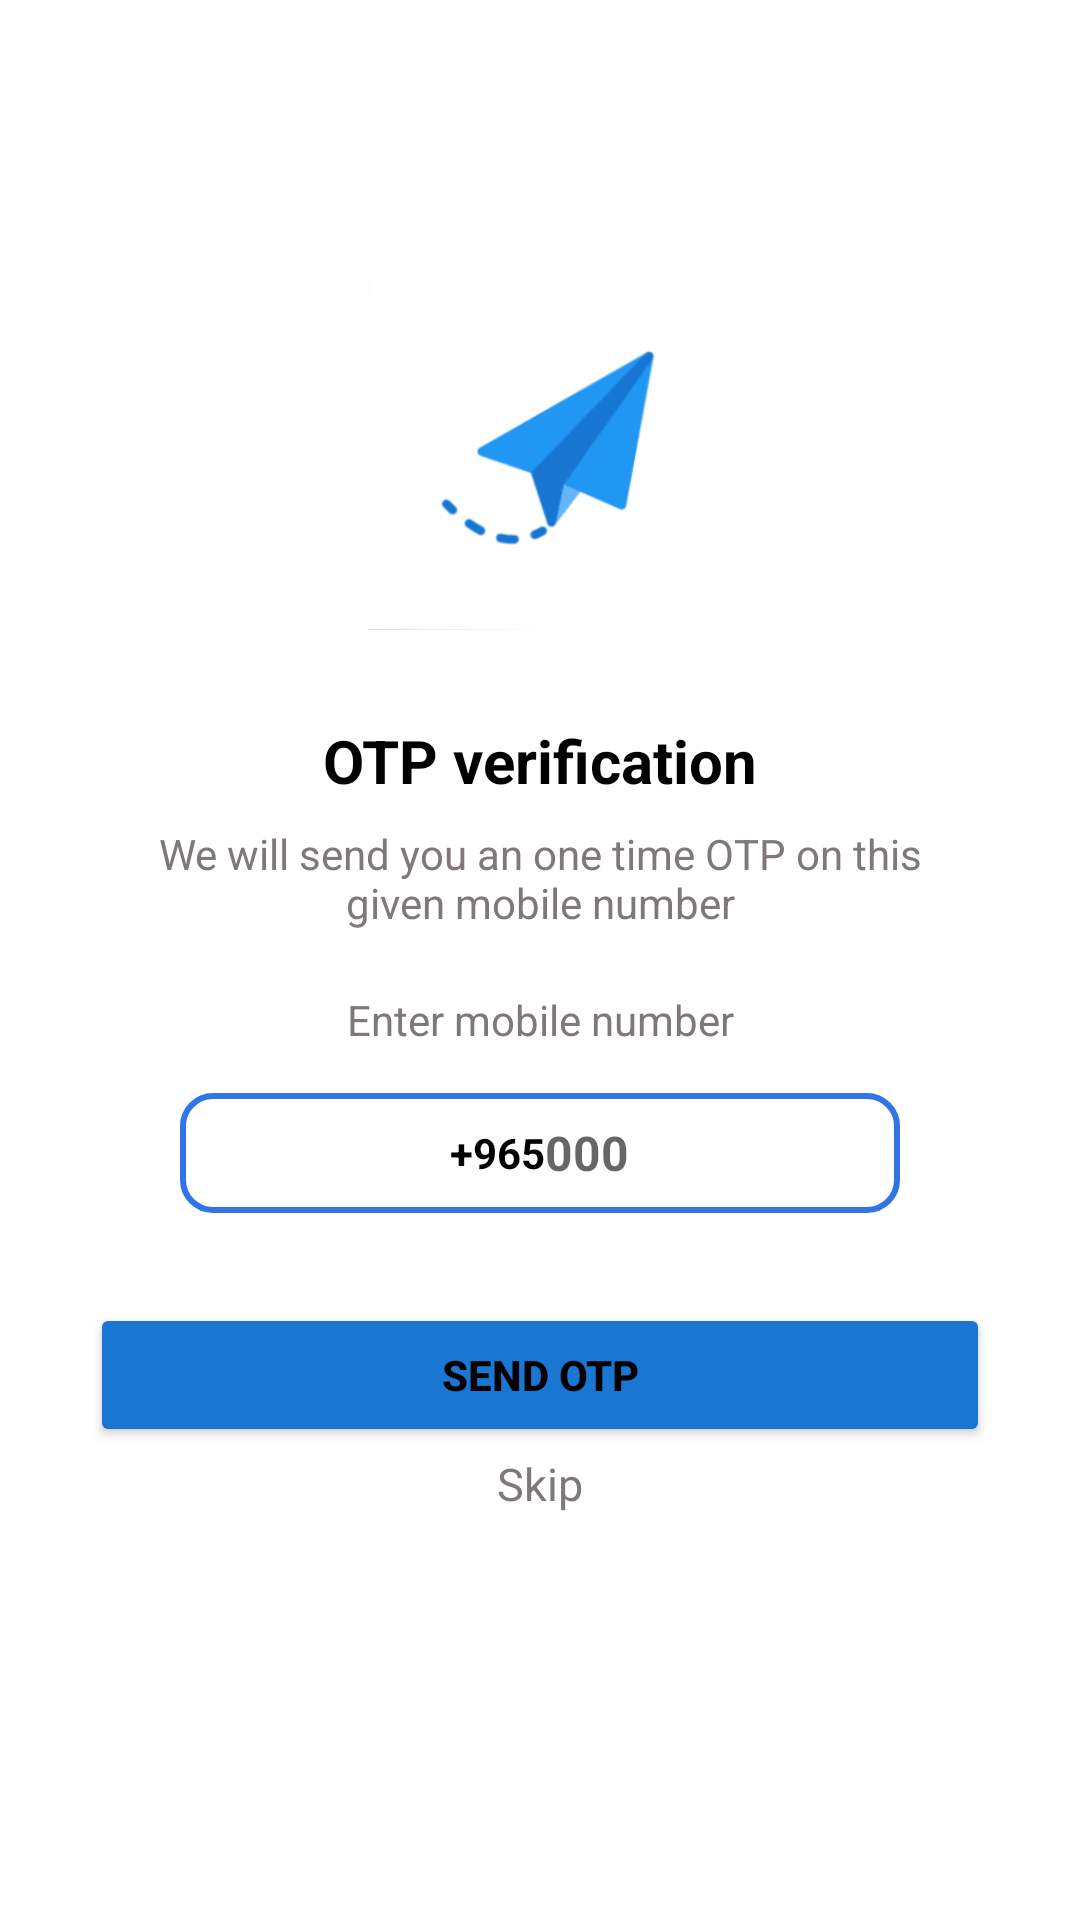

Icon bounding boxes for this 1080 x 1920 phone screenshot, format (x1, y1, x2, y2):
sendmail: (368, 351, 655, 630)
